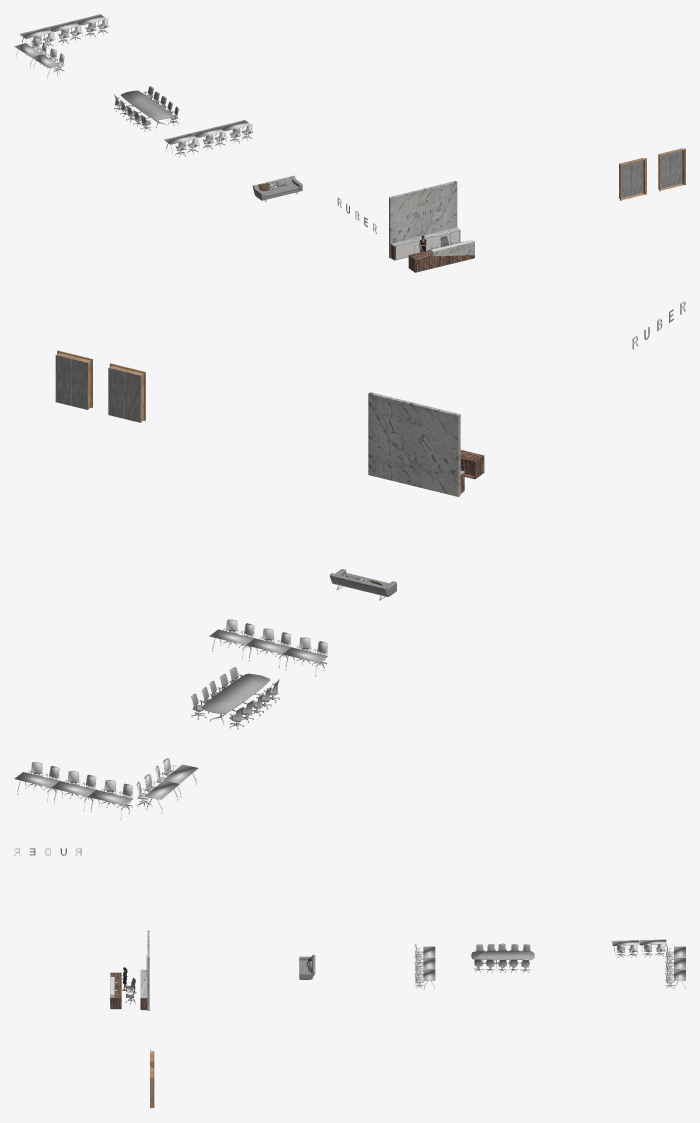
The model's file is lobby.glb.
3 views of the same model, one above another, from view 1: azimuth 30°, elevation 25°; view 2: azimuth 150°, elevation 25°; view 3: azimuth 270°, elevation 25° (orthographic). The views are drawn at different scales.
Visible parts, largest first — view 1: AE35_010_reception_06, AE35_010_furnituresB_02, AE35_010_building_A_elevator_door, AE35_010_reception_04, AE35_010_building_A_elevator_door001, AE35_010_sofa_008, AE35_010_reception_11, AE35_010_furnituresA_29, AE35_010_furnituresA_31, AE35_010_furnituresA_30, AE35_010_furnituresA_37, AE35_010_furnituresA_40 (+2 smaller); view 2: AE35_010_reception_06, AE35_010_furnituresB_02, AE35_010_building_A_elevator_door, AE35_010_building_A_elevator_door001, AE35_010_sofa_008, AE35_010_furnituresA_31, AE35_010_furnituresA_38, AE35_010_furnituresA_40, AE35_010_furnituresA_30; view 3: AE35_010_furnituresB_02.
Boxes of the visible parts, bbox=[...] form: AE35_010_reception_06: bbox=[389, 181, 457, 258]; AE35_010_furnituresB_02: bbox=[114, 86, 179, 131]; AE35_010_building_A_elevator_door: bbox=[619, 158, 643, 198]; AE35_010_reception_04: bbox=[408, 240, 474, 272]; AE35_010_building_A_elevator_door001: bbox=[658, 148, 682, 188]; AE35_010_sofa_008: bbox=[252, 175, 302, 200]; AE35_010_reception_11: bbox=[395, 231, 459, 259]; AE35_010_furnituresA_29: bbox=[191, 126, 225, 150]; AE35_010_furnituresA_31: bbox=[164, 133, 198, 157]; AE35_010_furnituresA_30: bbox=[218, 120, 252, 144]; AE35_010_furnituresA_37: bbox=[32, 48, 64, 78]; AE35_010_furnituresA_40: bbox=[74, 14, 108, 38]; AE35_010_reception_06: bbox=[368, 392, 460, 496]; AE35_010_furnituresB_02: bbox=[191, 667, 279, 729]; AE35_010_building_A_elevator_door: bbox=[108, 367, 141, 422]; AE35_010_building_A_elevator_door001: bbox=[55, 355, 88, 409]; AE35_010_sofa_008: bbox=[329, 569, 396, 596]; AE35_010_furnituresA_31: bbox=[282, 637, 327, 676]; AE35_010_furnituresA_38: bbox=[87, 780, 132, 819]; AE35_010_furnituresA_40: bbox=[14, 762, 59, 801]; AE35_010_furnituresA_30: bbox=[209, 619, 254, 658]; AE35_010_furnituresB_02: bbox=[471, 943, 534, 972].
Size of the model in its own units: 25.96 by 7.09 by 44.92.
Materials: 23 (11 with a texture image).
